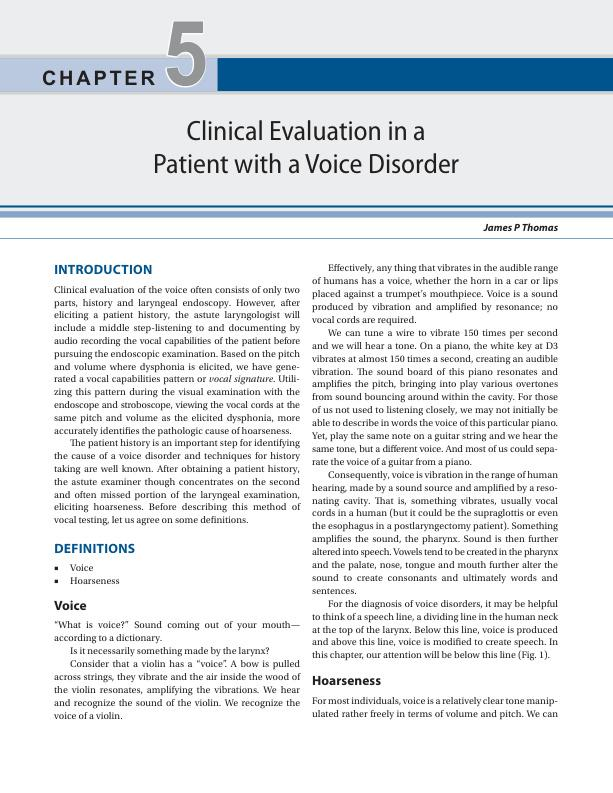chapter-heading: (152, 117, 461, 176)
list: (52, 562, 122, 585)
section-heading: (54, 263, 153, 275), (54, 542, 135, 554)
sub-section-heading: (312, 674, 381, 686), (52, 598, 87, 611)
text: (310, 261, 559, 662), (52, 284, 302, 527), (53, 617, 301, 721), (311, 696, 559, 721)
